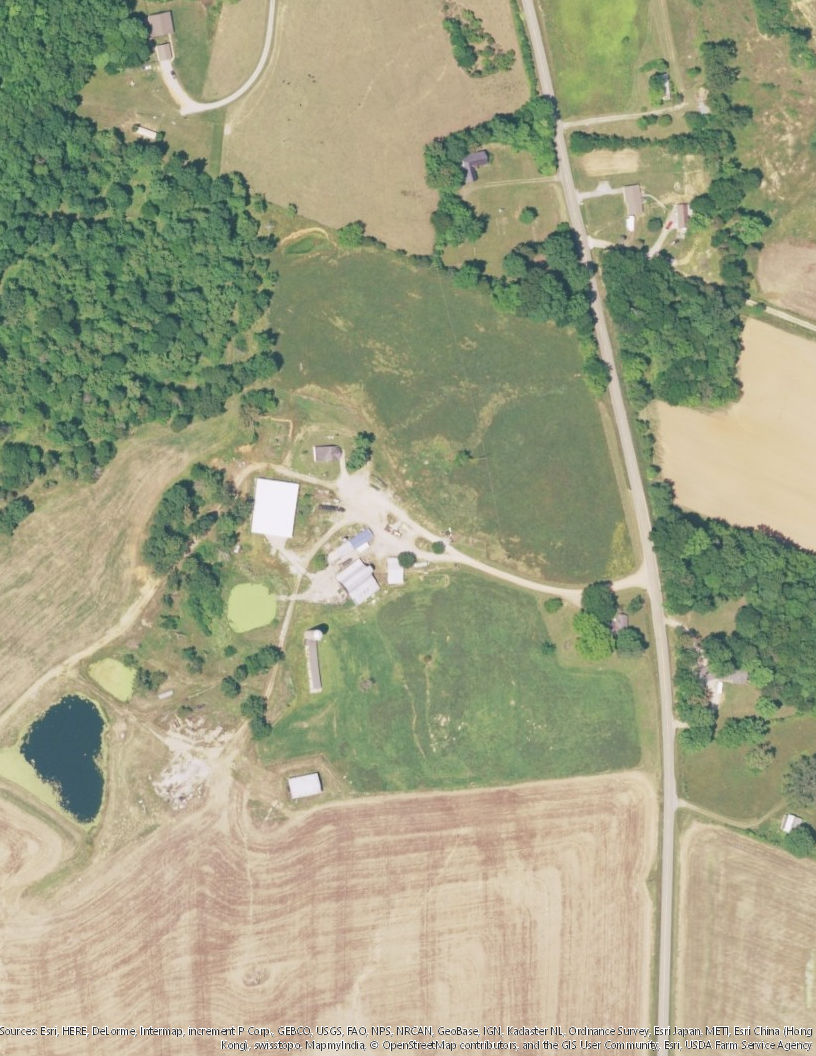cafo: (246, 475, 311, 547), (333, 548, 382, 607)
